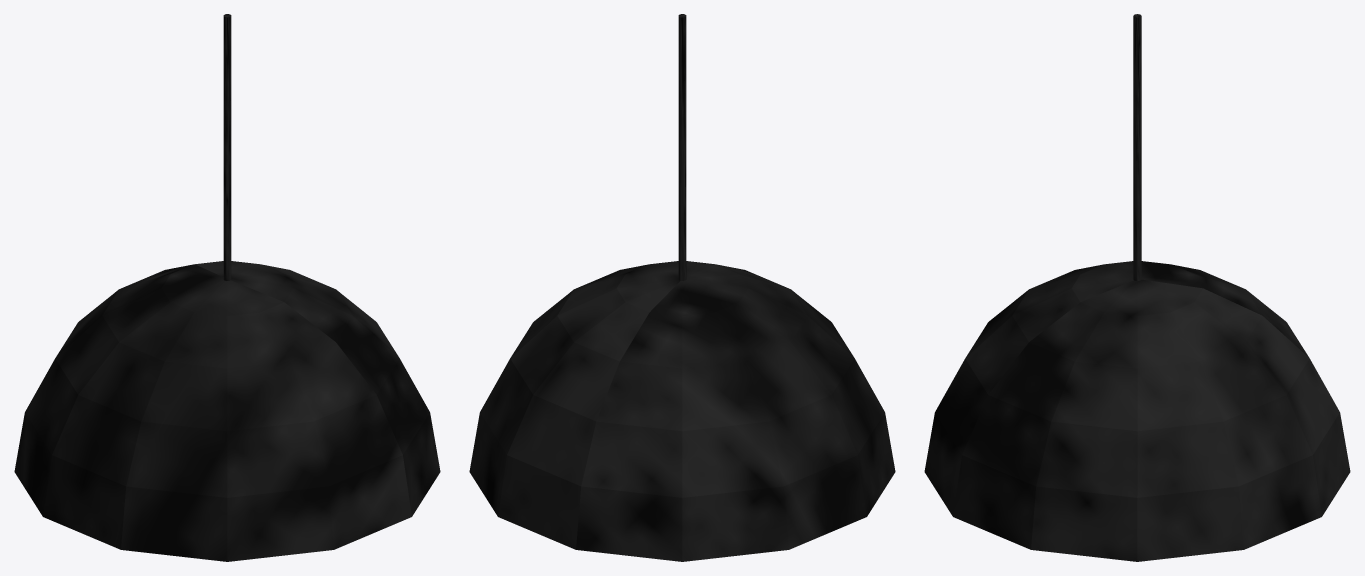
File: lamp_01.fbx
The picture shows the model from 3 angles, left to right: view 1: azimuth 30°, elevation 25°; view 2: azimuth 150°, elevation 25°; view 3: azimuth 270°, elevation 25°; orthographic projection.
Visible parts, largest first — view 1: Lamp_01_Sphere, Lamp_01_Wire; view 2: Lamp_01_Sphere, Lamp_01_Wire; view 3: Lamp_01_Sphere, Lamp_01_Wire.
Part boxes in pixels (<box>): Lamp_01_Sphere: <box>14,261,440,561</box>; Lamp_01_Wire: <box>223,14,231,280</box>; Lamp_01_Sphere: <box>469,261,895,561</box>; Lamp_01_Wire: <box>678,14,686,280</box>; Lamp_01_Sphere: <box>924,261,1350,561</box>; Lamp_01_Wire: <box>1133,14,1141,281</box>.
Size of the model in its own units: 111 by 131 by 111.
